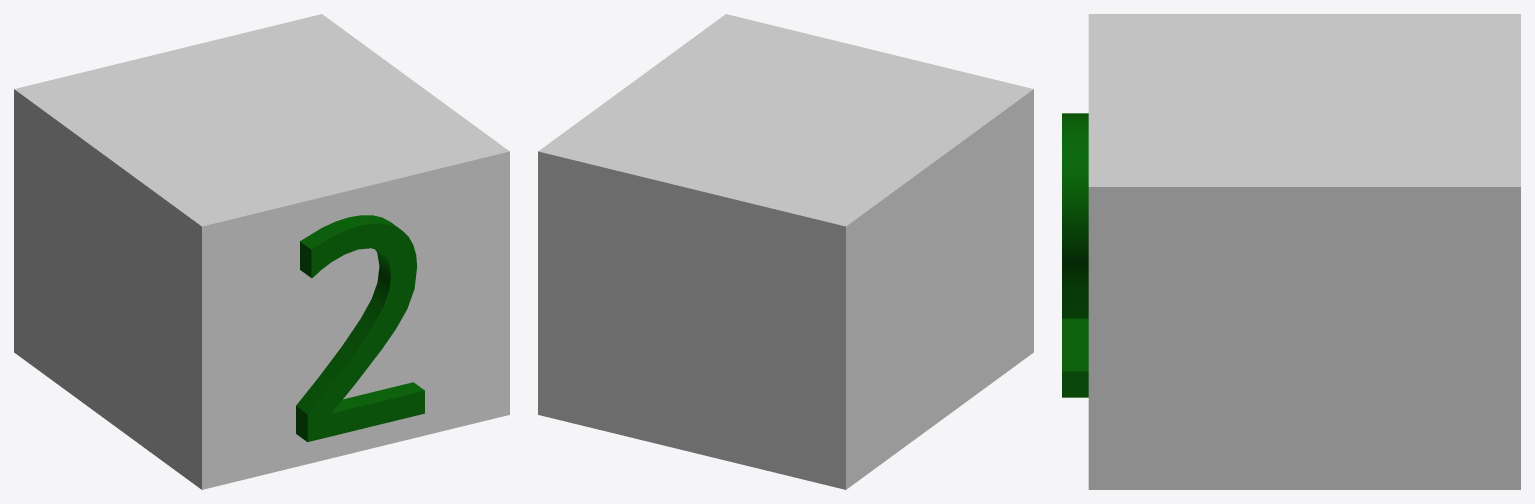
The model's file is SurveyAnswerCube2.fbx.
3 renders of one model, left to right at view 1: azimuth 30°, elevation 25°; view 2: azimuth 150°, elevation 25°; view 3: azimuth 270°, elevation 25°, orthographic. The views are drawn at different scales.
Visible parts, largest first — view 1: Model, G_2_1; view 2: Model; view 3: Model, G_2_1.
Boxes of the visible parts, x1=… form: Model: x1=14, y1=14, x2=509, y2=489; G_2_1: x1=296, y1=215, x2=424, y2=442; Model: x1=538, y1=14, x2=1033, y2=489; Model: x1=1088, y1=14, x2=1520, y2=489; G_2_1: x1=1062, y1=113, x2=1088, y2=397.
Size of the model in its own units: 1.72 by 1.41 by 1.93.
